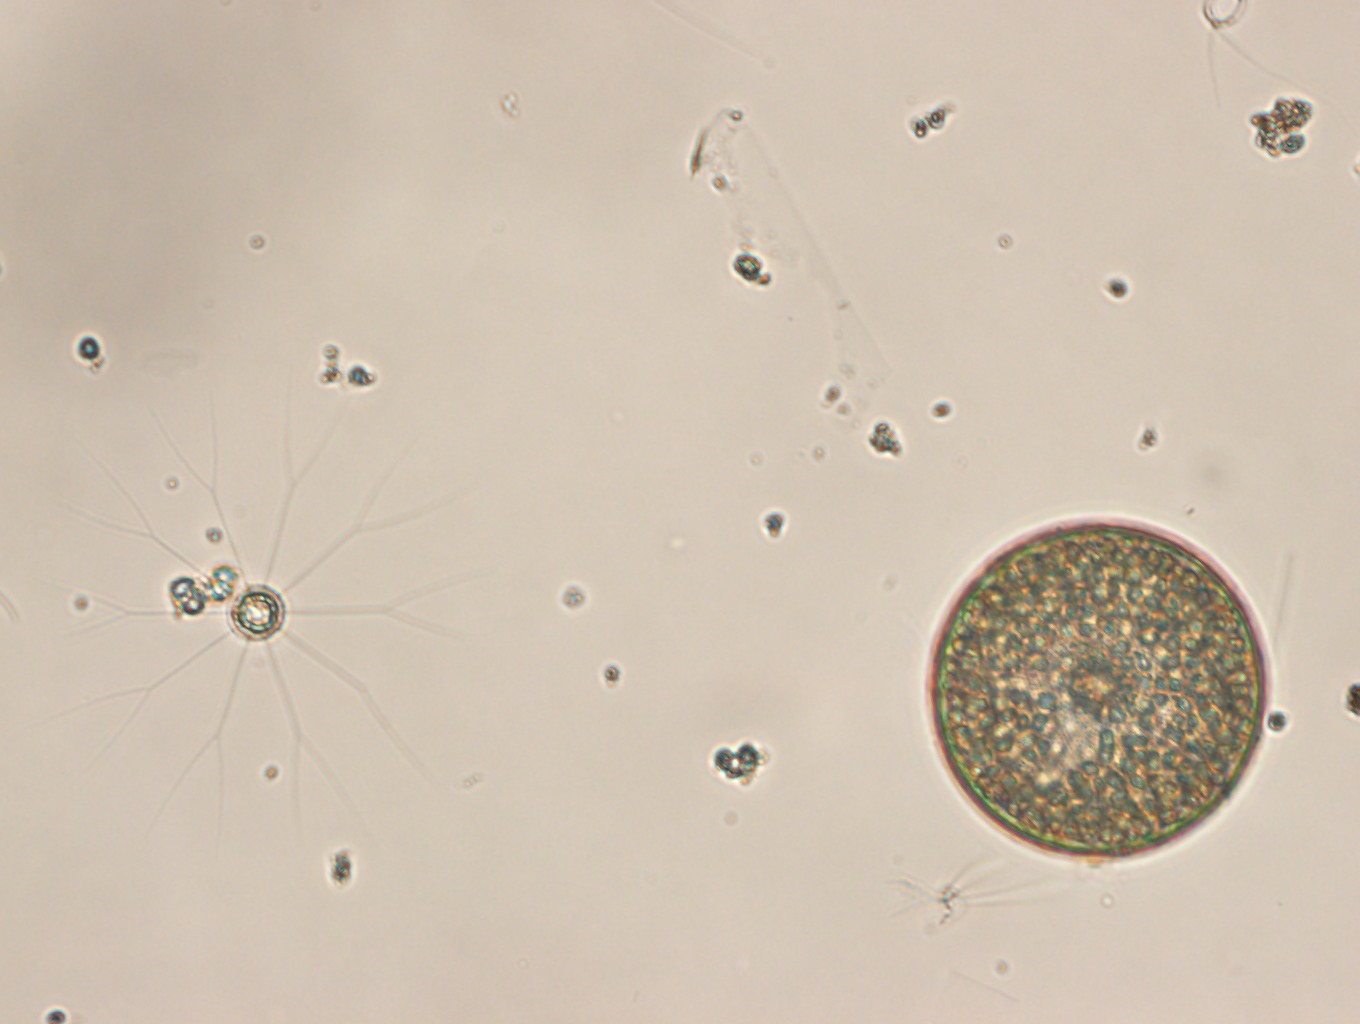bacteriastrum: (48, 384, 466, 813)
coscinodiscus: (927, 518, 1266, 862)
